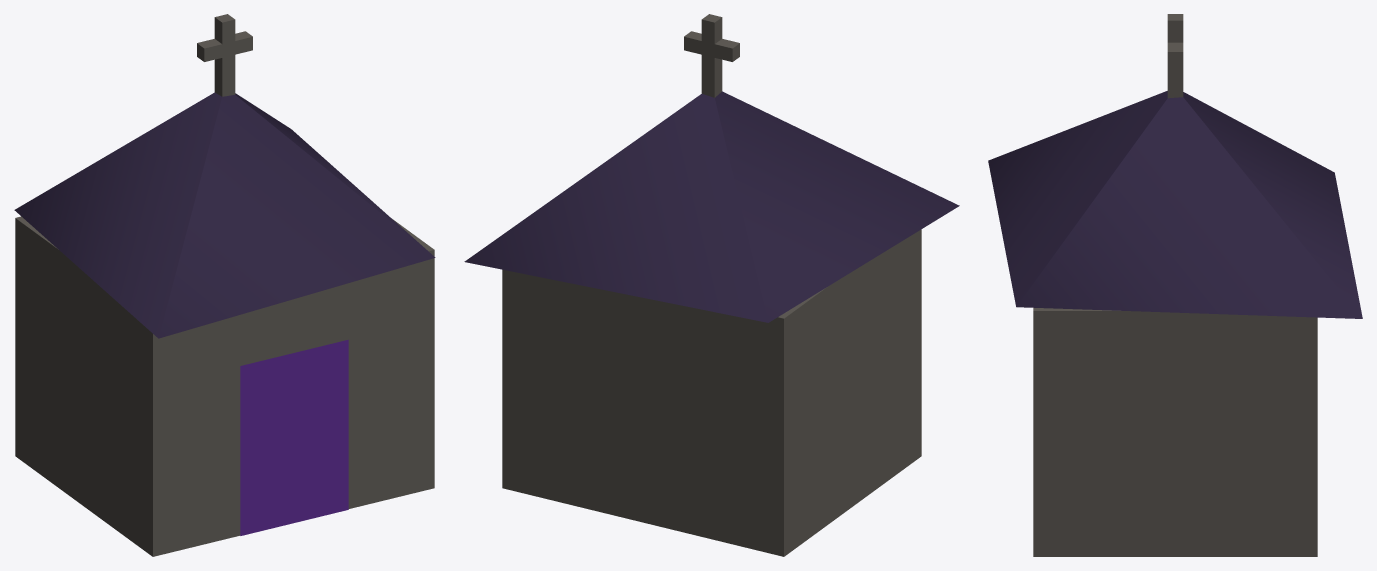
Rendered from cripta.glb.
3 views of the same model, side by side, from view 1: azimuth 30°, elevation 25°; view 2: azimuth 150°, elevation 25°; view 3: azimuth 270°, elevation 25° (orthographic). The views are drawn at different scales.
Parts seen in each view (by area): view 1: cripta; view 2: cripta; view 3: cripta.
Boxes of the visible parts, x1,y1,x2,y2 form: cripta: [14, 14, 435, 556]; cripta: [464, 14, 959, 556]; cripta: [988, 14, 1362, 556].
Bounding box in the file's own units: 2.9 × 4 × 2.9.
Materials: 1 (1 with a texture image).
